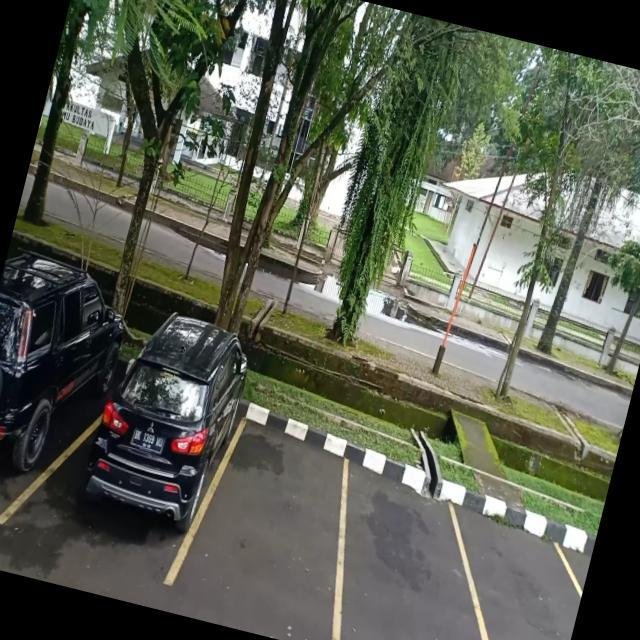empty: (177, 391, 368, 640), (308, 449, 498, 640), (448, 490, 601, 640)
occupied: (52, 337, 244, 583), (0, 275, 119, 536)
